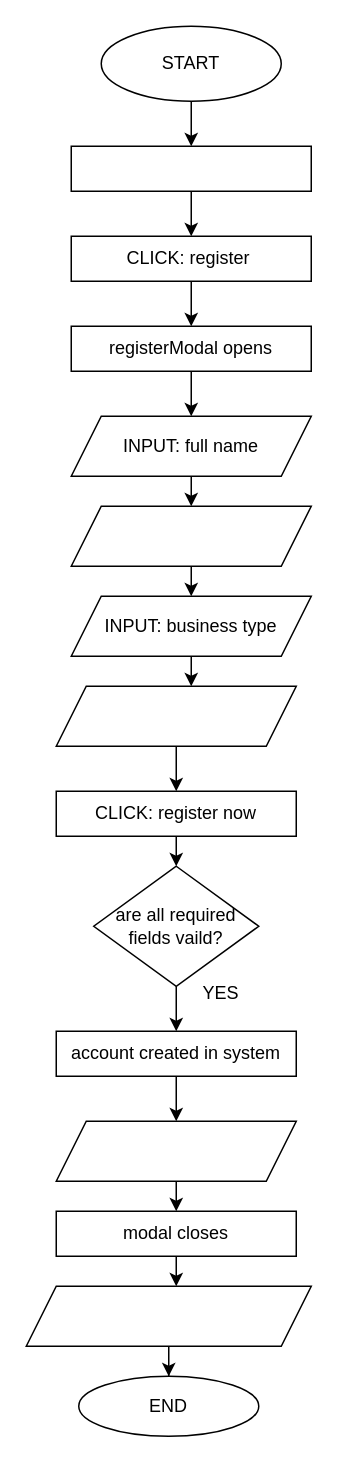
The diagram is 338 pixels wide and 1463 high, and some of its shapes have lost their labels. The centre of each missing label's shape, as x and y in pixels:
"INPUT: password" belongs at point (175, 715).
"INPUT:email address" belongs at point (190, 535).
"open homepage" belongs at point (190, 168).
"OUTPUT: access to business dashboard" belongs at point (168, 1315).
"OUTPUT: registration successful" belongs at point (175, 1150).
